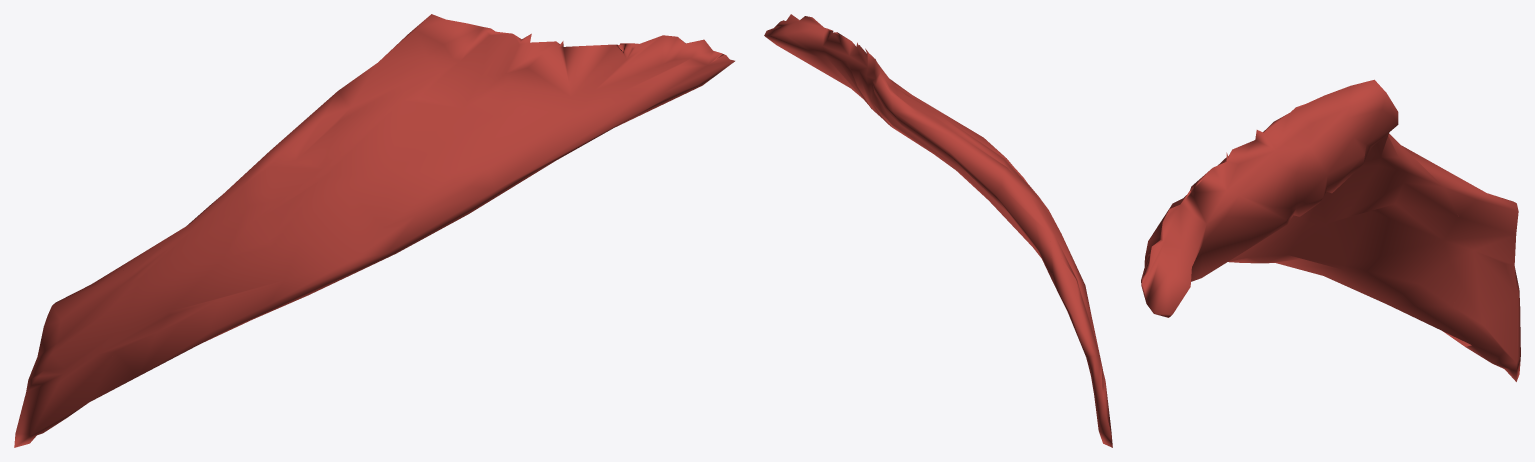
The model's file is musculos-clavicular-head-of-pectoralis-major-muscle-r.glb.
3 renders of one model, left to right at view 1: azimuth 30°, elevation 25°; view 2: azimuth 150°, elevation 25°; view 3: azimuth 270°, elevation 25°, orthographic. The views are drawn at different scales.
Parts seen in each view (by area): view 1: Clavicular head of pectoralis major muscle.r; view 2: Clavicular head of pectoralis major muscle.r; view 3: Clavicular head of pectoralis major muscle.r.
Boxes of the visible parts, bbox=[...] form: Clavicular head of pectoralis major muscle.r: bbox=[14, 14, 734, 447]; Clavicular head of pectoralis major muscle.r: bbox=[764, 14, 1112, 447]; Clavicular head of pectoralis major muscle.r: bbox=[1141, 79, 1520, 381].
Size of the model in its own units: 0.173 by 0.1054 by 0.065.
